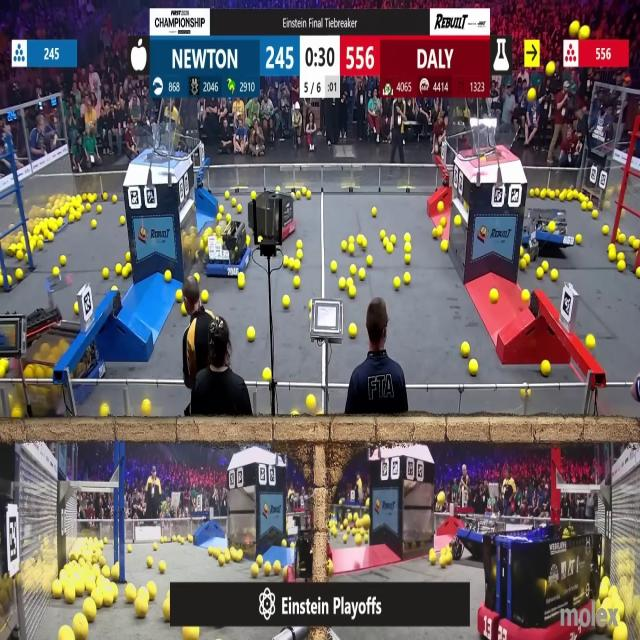ball_airborne: (581, 28, 590, 41), (570, 23, 578, 37), (528, 90, 536, 102), (546, 63, 554, 75), (439, 492, 446, 503)
ball_ground: (86, 600, 98, 621), (136, 598, 148, 618), (186, 627, 200, 640), (127, 586, 137, 604), (64, 585, 75, 601), (103, 592, 114, 607), (60, 627, 73, 639), (164, 600, 171, 621), (142, 401, 151, 417), (616, 628, 628, 640), (540, 360, 549, 375), (54, 584, 63, 599), (111, 564, 119, 580), (148, 584, 156, 600), (587, 336, 596, 350), (247, 326, 255, 341), (349, 323, 357, 338), (461, 343, 469, 358), (468, 360, 476, 374), (308, 394, 316, 408), (265, 562, 273, 576), (264, 367, 273, 379), (234, 551, 243, 563), (491, 288, 498, 303), (251, 564, 259, 577), (238, 276, 246, 289), (274, 562, 282, 575), (12, 410, 21, 421), (111, 588, 118, 602), (282, 295, 290, 307), (522, 290, 530, 302), (402, 274, 410, 286), (101, 406, 109, 418), (608, 250, 616, 262), (362, 516, 370, 528), (429, 552, 436, 565), (202, 290, 210, 301), (394, 278, 401, 290), (160, 561, 167, 573), (349, 286, 356, 298), (441, 556, 448, 568), (432, 229, 440, 239), (618, 235, 626, 245), (619, 262, 626, 273), (536, 269, 543, 280), (358, 269, 365, 280), (15, 270, 22, 281), (115, 265, 122, 276), (165, 272, 172, 283), (121, 268, 128, 279), (348, 243, 355, 254), (103, 566, 110, 577), (552, 270, 558, 282), (341, 278, 347, 290), (103, 268, 109, 280), (176, 290, 182, 302), (347, 278, 355, 287), (403, 253, 410, 263), (126, 252, 133, 262), (218, 556, 225, 566), (37, 240, 44, 250), (355, 536, 362, 546), (579, 201, 586, 211), (443, 241, 449, 252), (366, 255, 372, 266), (293, 277, 299, 288), (61, 255, 67, 266), (0, 365, 6, 376), (293, 261, 299, 272), (521, 261, 527, 272), (182, 303, 188, 314), (68, 214, 76, 222), (348, 237, 356, 245), (403, 244, 410, 253), (632, 239, 639, 248), (126, 265, 133, 274), (330, 263, 336, 273), (147, 557, 153, 567), (603, 224, 609, 234), (575, 235, 581, 245), (455, 216, 461, 226), (390, 235, 396, 245), (439, 202, 445, 212), (350, 266, 356, 276), (342, 239, 348, 249), (55, 268, 61, 278), (47, 232, 53, 242), (256, 556, 262, 566), (6, 276, 12, 286), (363, 534, 369, 544), (75, 211, 81, 221), (619, 252, 626, 260), (296, 250, 302, 259), (403, 234, 409, 243), (442, 217, 448, 226), (295, 240, 301, 249), (540, 189, 546, 198), (16, 251, 22, 260), (356, 236, 362, 245), (74, 304, 79, 314), (284, 256, 289, 266), (251, 190, 256, 200), (361, 238, 366, 248), (520, 247, 525, 257), (59, 216, 64, 226), (370, 208, 376, 216), (218, 206, 224, 214), (588, 202, 594, 210), (0, 276, 4, 288), (237, 206, 243, 214), (187, 534, 193, 542), (609, 244, 615, 252), (604, 202, 610, 210), (194, 273, 199, 282), (387, 244, 392, 253), (93, 219, 98, 228), (593, 210, 598, 219), (542, 263, 547, 272), (522, 389, 527, 398), (636, 268, 640, 279), (87, 205, 93, 212), (216, 213, 222, 220), (381, 232, 386, 240), (112, 194, 117, 202), (128, 543, 133, 551), (309, 302, 314, 310), (331, 528, 336, 536), (384, 239, 388, 248), (90, 192, 94, 201), (209, 549, 213, 558), (291, 412, 297, 418), (103, 192, 108, 199), (120, 216, 124, 224), (98, 206, 102, 214), (224, 190, 228, 198), (308, 190, 312, 198), (530, 188, 534, 196), (233, 200, 237, 208), (344, 534, 348, 542), (282, 539, 286, 547), (180, 536, 184, 544), (152, 542, 156, 549), (257, 237, 261, 244), (295, 191, 299, 198), (290, 542, 294, 548), (162, 536, 166, 542), (112, 285, 115, 292)
goal: (467, 121, 521, 160), (129, 130, 188, 160)
robot_blue: (20, 318, 106, 406), (202, 217, 248, 278), (527, 206, 569, 249)
robot_red: (480, 526, 575, 638), (252, 189, 298, 242), (632, 352, 640, 402)
